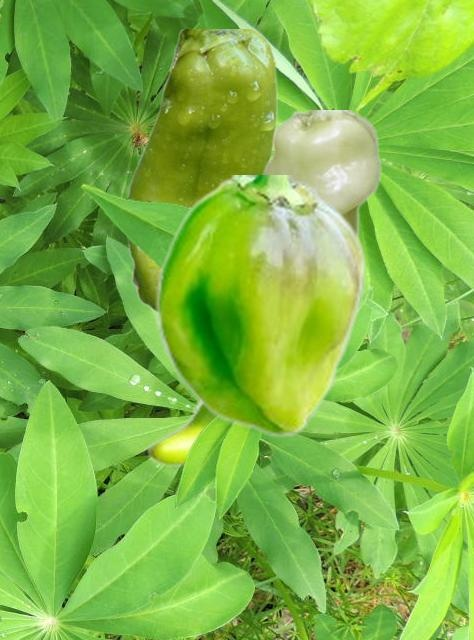green_chili: (155, 175, 366, 437), (125, 29, 276, 312), (260, 110, 380, 237), (145, 401, 213, 467)
